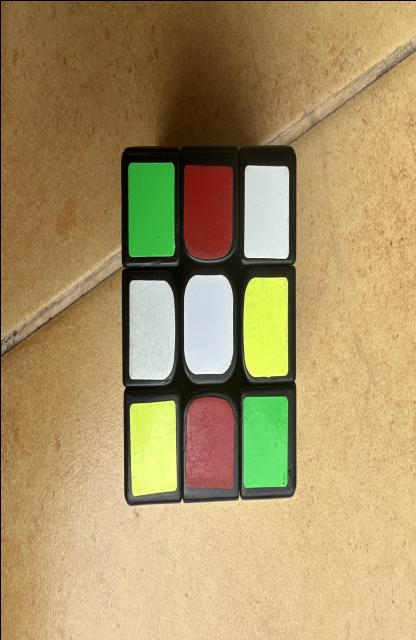Green: (127, 162, 174, 257), (242, 395, 287, 487)
Red: (183, 163, 232, 258), (184, 395, 234, 488)
White: (183, 273, 232, 373), (128, 278, 175, 378), (243, 165, 288, 258)
Yellow: (242, 277, 288, 377), (128, 400, 176, 495)
